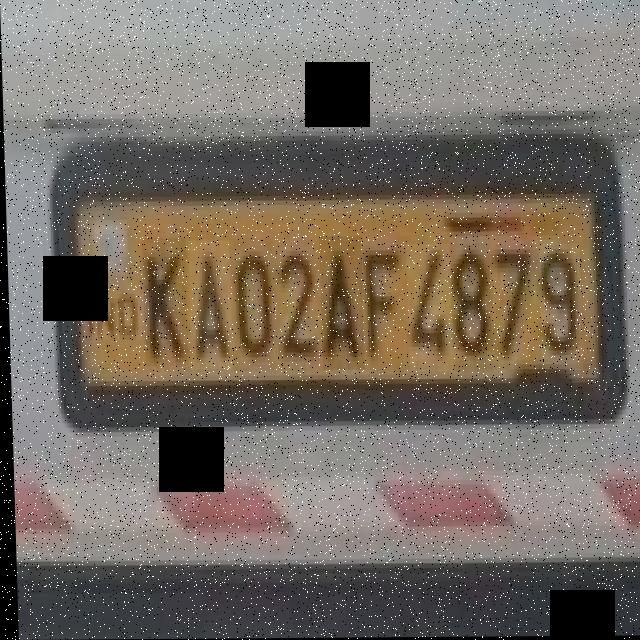0: (232, 239, 274, 371)
4: (405, 244, 451, 372)
7: (492, 248, 536, 365)
8: (450, 244, 491, 373)
9: (537, 245, 581, 371)
A: (318, 237, 363, 370), (187, 241, 231, 370)
F: (359, 242, 406, 366)
K: (141, 238, 188, 366)
